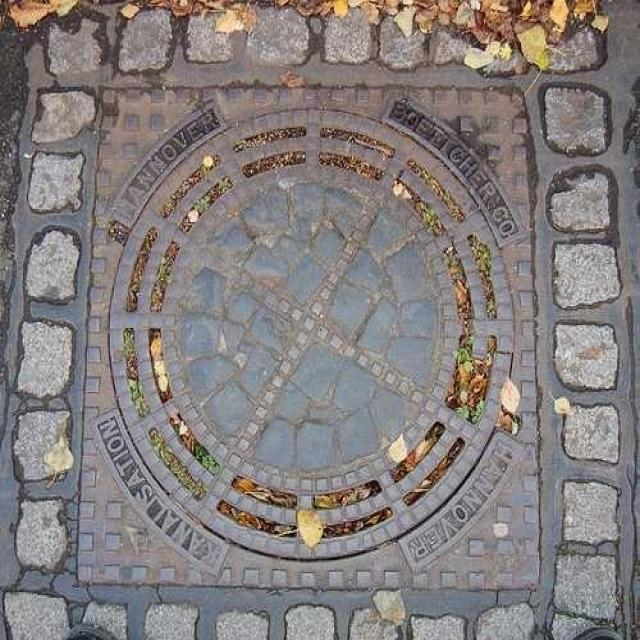manhole: (110, 108, 513, 561)
